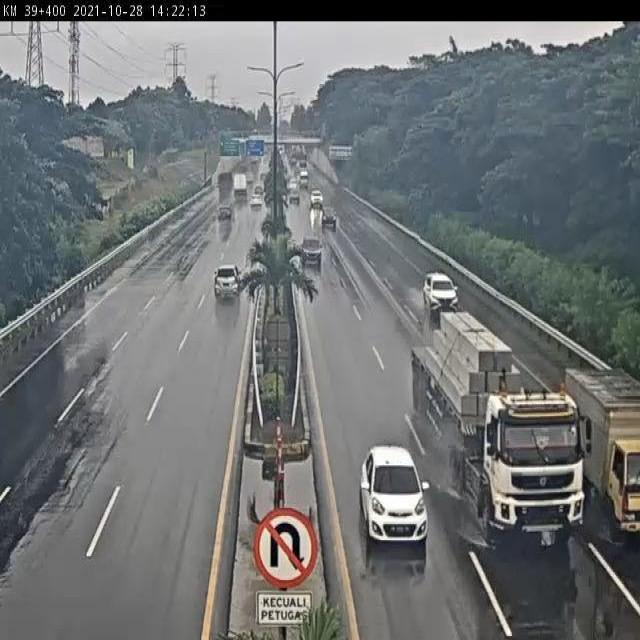car: (356, 441, 431, 551), (420, 266, 461, 310), (213, 263, 242, 305)
truck-s-: (564, 360, 640, 537)
truck-xl-: (411, 308, 580, 557)
